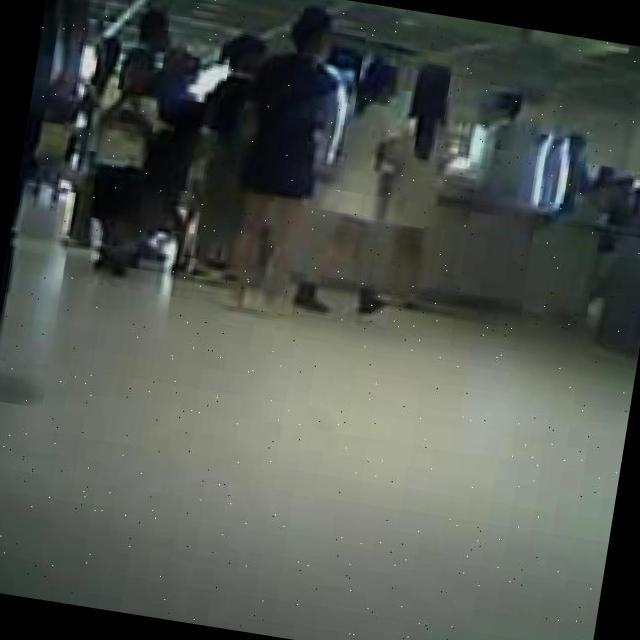person: (209, 0, 361, 319), (294, 59, 423, 324), (172, 27, 275, 286), (367, 63, 468, 316), (120, 44, 216, 260), (74, 49, 165, 272), (46, 32, 121, 192), (461, 84, 532, 200)
